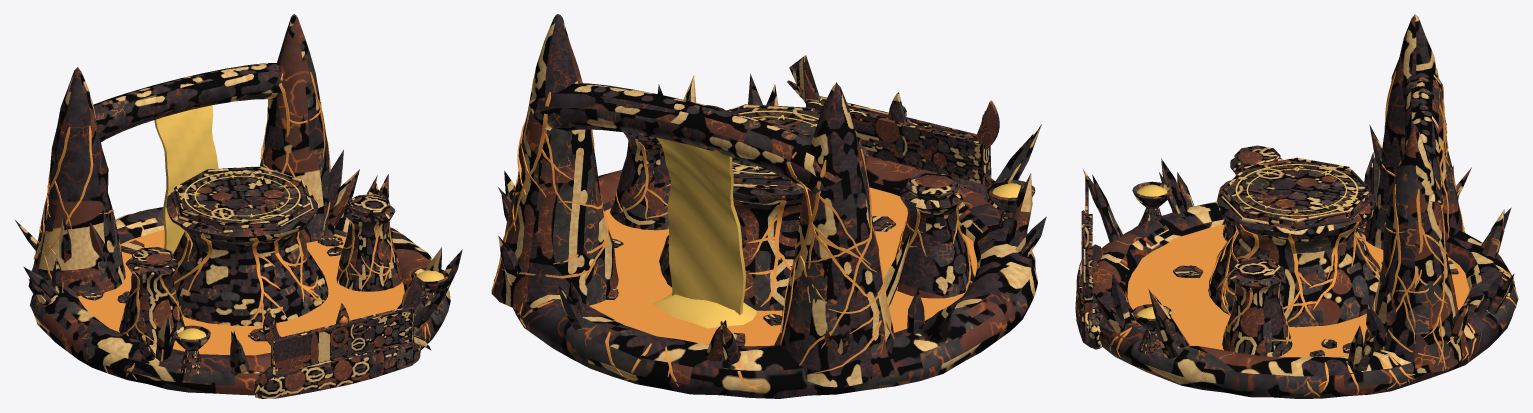
The model's file is Lava_Stand.fbx.
The picture shows the model from 3 angles, left to right: view 1: azimuth 30°, elevation 25°; view 2: azimuth 150°, elevation 25°; view 3: azimuth 270°, elevation 25°; orthographic projection. The views are drawn at different scales.
Visible parts, largest first — view 1: Lava_Stand_Spires, Lava_Stand_Base, Lava_Stand_Altar, Lava_Stand_LavaPool, Lava_Stand_Pillars, Lava_Stand_AltarTop, Lava_Stand_Crystals, Lava_Stand_SignPlate, Lava_Stand_LavaFall, Lava_Stand_SignRock, Lava_Stand_Gold, Lava_Stand_LavaStreams (+6 smaller); view 2: Lava_Stand_Spires, Lava_Stand_Base, Lava_Stand_LavaFall, Lava_Stand_LavaPool, Lava_Stand_Pillars, Lava_Stand_Crystals, Lava_Stand_Altar, Lava_Stand_LavaStreams2, Lava_Stand_SignPlate, Lava_Stand_AltarTop, Lava_Stand_SignFrame, Lava_Stand_Gold (+2 smaller); view 3: Lava_Stand_Spires, Lava_Stand_Base, Lava_Stand_Altar, Lava_Stand_LavaPool, Lava_Stand_Crystals, Lava_Stand_AltarTop, Lava_Stand_Pillars, Lava_Stand_LavaStreams2, Lava_Stand_Gold, Lava_Stand_LavaStreams, Lava_Stand_SignRock, Lava_Stand_Runes (+5 smaller).
Boxes of the visible parts, box(x1,y1,x2,y2) form: Lava_Stand_Spires: box(28, 14, 336, 295); Lava_Stand_Base: box(30, 207, 450, 395); Lava_Stand_Altar: box(166, 190, 328, 326); Lava_Stand_LavaPool: box(78, 230, 404, 355); Lava_Stand_Pillars: box(119, 205, 401, 344); Lava_Stand_AltarTop: box(134, 168, 387, 268); Lava_Stand_Crystals: box(15, 150, 462, 375); Lava_Stand_SignPlate: box(271, 308, 411, 374); Lava_Stand_LavaFall: box(154, 105, 218, 253); Lava_Stand_SignRock: box(255, 343, 421, 398); Lava_Stand_Gold: box(131, 166, 448, 351); Lava_Stand_LavaStreams: box(123, 212, 392, 344); Lava_Stand_Spires: box(491, 14, 895, 387); Lava_Stand_Base: box(513, 156, 1037, 398); Lava_Stand_LavaFall: box(652, 137, 756, 328); Lava_Stand_LavaPool: box(589, 187, 976, 346); Lava_Stand_Pillars: box(610, 132, 974, 298); Lava_Stand_Crystals: box(498, 73, 1046, 364); Lava_Stand_Altar: box(659, 143, 868, 310); Lava_Stand_LavaStreams2: box(491, 78, 1037, 389); Lava_Stand_SignPlate: box(806, 100, 987, 184); Lava_Stand_AltarTop: box(732, 107, 956, 200); Lava_Stand_SignFrame: box(787, 55, 999, 187); Lava_Stand_Gold: box(706, 104, 1035, 212); Lava_Stand_Spires: box(1364, 14, 1466, 373); Lava_Stand_Base: box(1093, 201, 1518, 398); Lava_Stand_Altar: box(1208, 180, 1380, 327); Lava_Stand_LavaPool: box(1127, 222, 1469, 357); Lava_Stand_Crystals: box(1083, 124, 1514, 371); Lava_Stand_AltarTop: box(1222, 147, 1371, 279); Lava_Stand_Pillars: box(1222, 157, 1292, 357); Lava_Stand_LavaStreams2: box(1109, 68, 1518, 396); Lava_Stand_Gold: box(1132, 145, 1374, 331); Lava_Stand_LavaStreams: box(1209, 174, 1381, 344); Lava_Stand_SignRock: box(1075, 244, 1103, 349); Lava_Stand_Runes: box(1235, 164, 1358, 215).
Size of the model in its own units: 1006 by 627 by 1011.
Materials: 7 (1 with a texture image).
